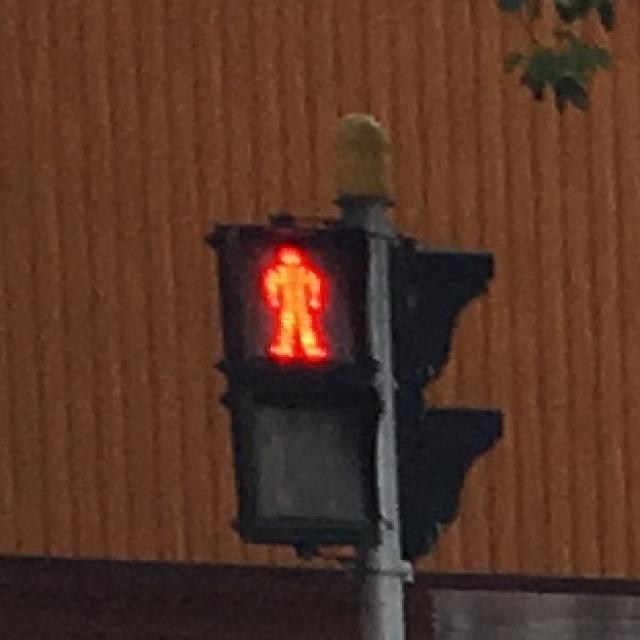red_light: (242, 230, 347, 371)
